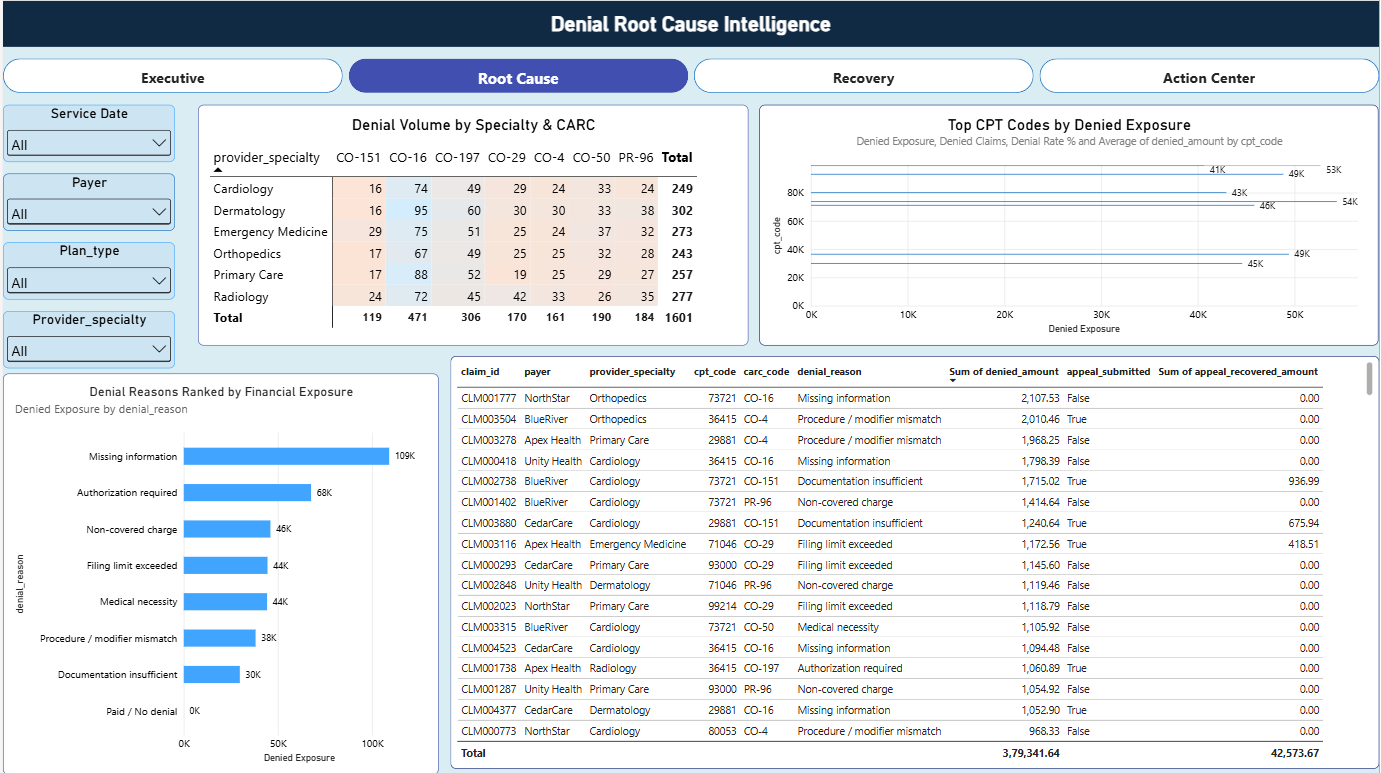

The dashboard page shown, as its layout file describes it:
{"tool":"powerbi","page":{"name":"Root Cause","canvas":[1920,1080],"ordinal":1},"visuals":[{"type":"textbox","title":"Denial Root Cause Intelligence","box":[0,0,1920,64],"z":0},{"type":"clusteredBarChart","title":"Denial Reasons Ranked by Financial Exposure","fields":{"Category":["claims_processed.denial_reason"],"Y":["claims_processed.Denied Exposure"]},"box":[0,520,608,560],"z":1000},{"type":"pivotTable","title":"Denial Volume by Specialty & CARC","fields":{"Columns":["claims_processed.carc_code"],"Rows":["claims_processed.provider_specialty"],"Values":["claims_processed.Denied Claims"]},"box":[272,144,768,336],"z":2000},{"type":"clusteredBarChart","title":"Top CPT Codes by Denied Exposure","fields":{"Category":["claims_processed.cpt_code"],"Y":["claims_processed.Denied Exposure"]},"box":[1056,144,864,336],"z":3000},{"type":"tableEx","fields":{"Values":["claims_processed.claim_id","claims_processed.payer","claims_processed.provider_specialty","Sum(claims_processed.cpt_code)","claims_processed.carc_code","claims_processed.denial_reason","Sum(claims_processed.denied_amount)","claims_processed.appeal_submitted","Sum(claims_processed.appeal_recovered_amount)"]},"box":[624,496,1296,576],"z":4000},{"type":"slicer","title":"Service Date","fields":{"Values":["claims_processed.Month Label"]},"box":[0,144,240,80],"z":5000},{"type":"slicer","title":"Plan_type","fields":{"Values":["claims_processed.plan_type"]},"box":[0,336,240,80],"z":6000},{"type":"slicer","title":"Provider_specialty","fields":{"Values":["claims_processed.provider_specialty"]},"box":[0,432,240,80],"z":7000},{"type":"pageNavigator","box":[0,80,1920,48],"z":8000},{"type":"slicer","title":"Payer","fields":{"Values":["claims_processed.payer"]},"box":[0,240,240,80],"z":9000}]}

Visuals, with their boxes in screenshot pixels (x1, y1, x2, y2), scaled from the page's 1920x1080 canvas onto the 1381x773 screenshot:
"Denial Root Cause Intelligence" textbox: [left=0, top=0, right=1380, bottom=46]
"Denial Reasons Ranked by Financial Exposure" clusteredBarChart: [left=0, top=372, right=437, bottom=772]
"Denial Volume by Specialty & CARC" pivotTable: [left=196, top=103, right=748, bottom=344]
"Top CPT Codes by Denied Exposure" clusteredBarChart: [left=760, top=103, right=1380, bottom=344]
tableEx - claims_processed.claim_id x claims_processed.payer: [left=449, top=355, right=1380, bottom=767]
"Service Date" slicer: [left=0, top=103, right=173, bottom=160]
"Plan_type" slicer: [left=0, top=240, right=173, bottom=298]
"Provider_specialty" slicer: [left=0, top=309, right=173, bottom=366]
pageNavigator: [left=0, top=57, right=1380, bottom=92]
"Payer" slicer: [left=0, top=172, right=173, bottom=229]
